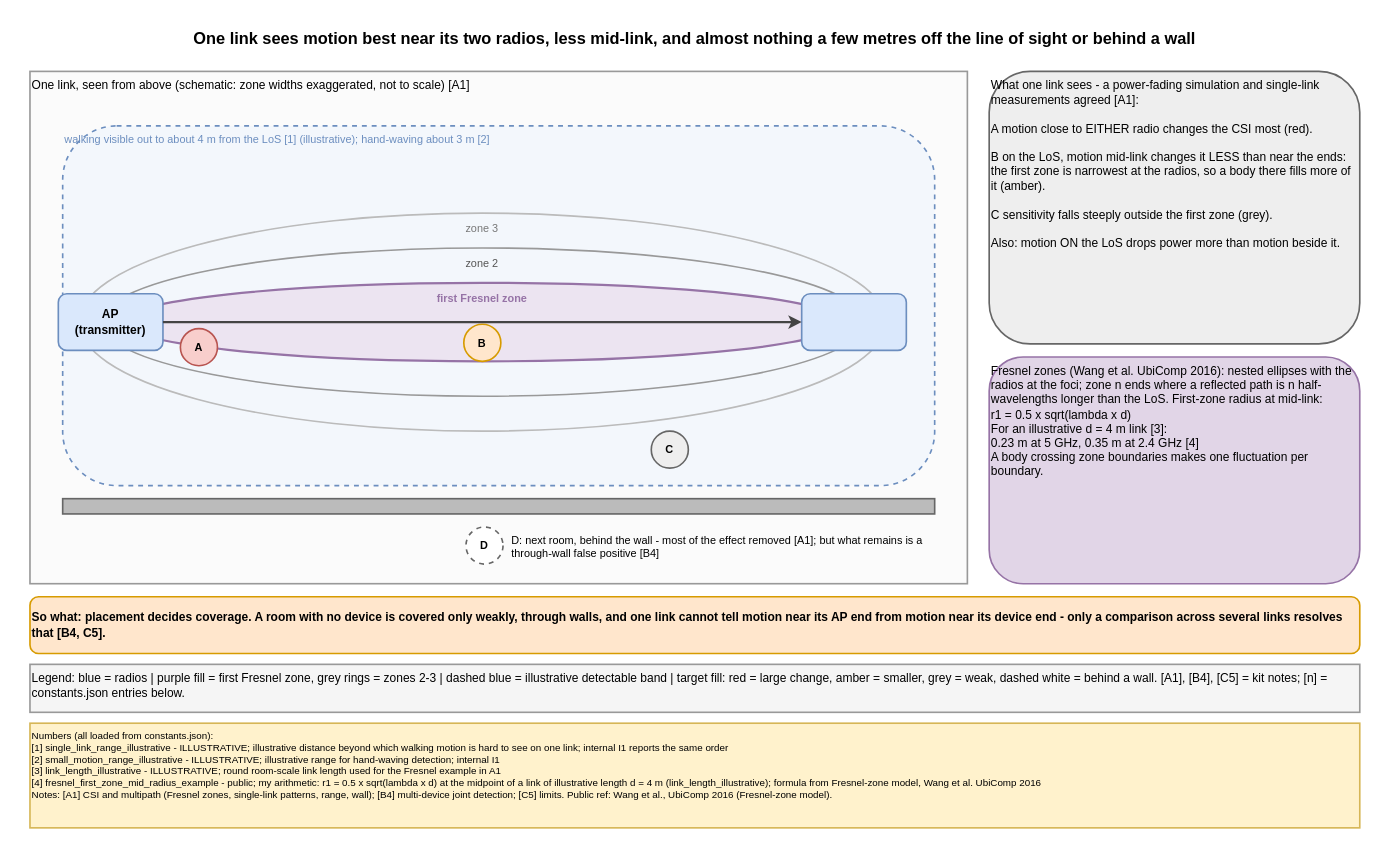
This 1391x848 diagram has some shape labels left out. The centre of each missing label's shape, as x and y in pixels:
"device (receiver)" goes at point 853,321.
"wall" goes at point 498,505.
